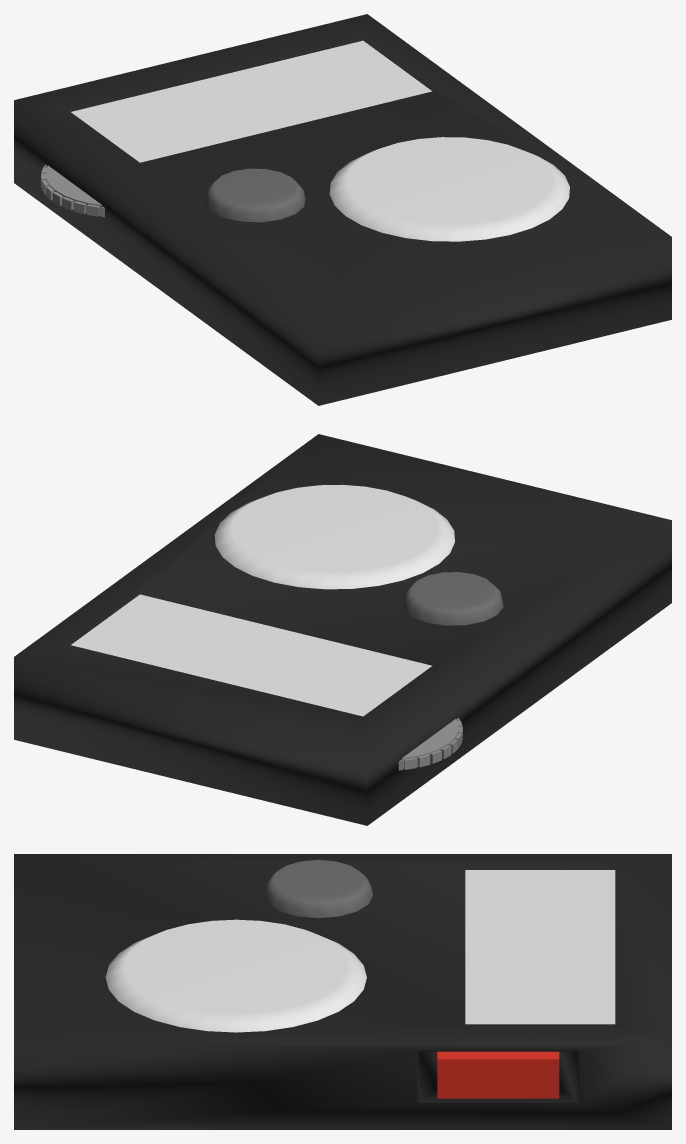
The model's file is recorder_on.fbx.
The picture shows the model from 3 angles, top to bottom: view 1: azimuth 30°, elevation 25°; view 2: azimuth 150°, elevation 25°; view 3: azimuth 270°, elevation 25°; orthographic projection. The views are drawn at different scales.
Visible parts, largest first — view 1: Cube, Cylinder.001, Cylinder, Circle; view 2: Cube, Cylinder.001, Cylinder, Circle; view 3: Cube, Cylinder.001, Cylinder.
Part boxes in pixels (x1,y1,x2,y2): Cube: [14, 14, 671, 405]; Cylinder.001: [329, 137, 569, 241]; Cylinder: [205, 168, 305, 222]; Circle: [41, 164, 104, 217]; Cube: [14, 434, 671, 825]; Cylinder.001: [214, 484, 454, 589]; Cylinder: [403, 572, 503, 625]; Circle: [398, 718, 462, 770]; Cube: [14, 854, 671, 1129]; Cylinder.001: [105, 919, 366, 1032]; Cylinder: [264, 860, 372, 918].
Size of the model in its own units: 144 by 35.42 by 200.
